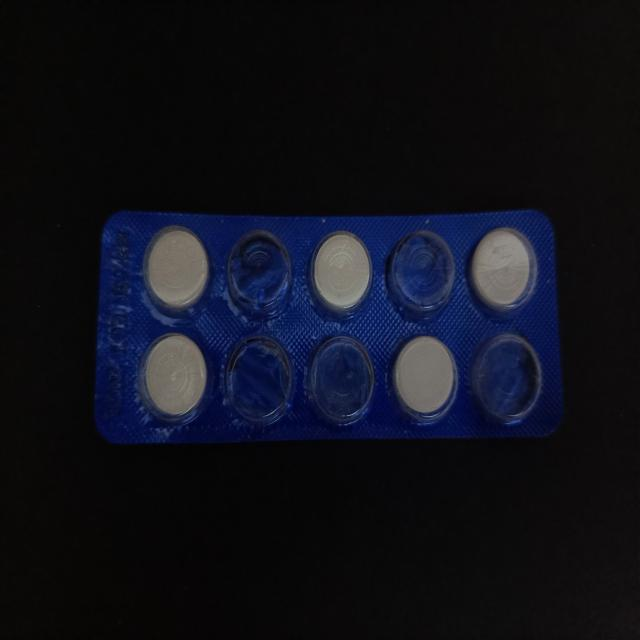defect: (466, 328, 545, 431), (223, 330, 298, 430), (383, 227, 458, 326), (224, 225, 296, 326), (306, 331, 378, 432)
